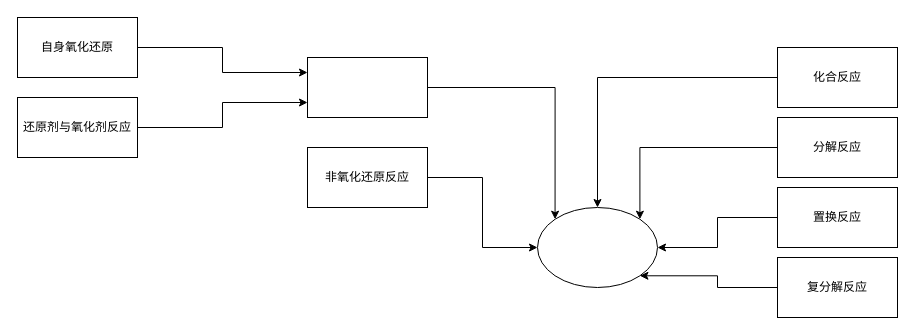
Image size: 915x335. Some labels were removed from this diagram. Each missing label, with the box of its shape:
化学反应: (536, 206, 658, 288)
氧化还原反应: (306, 56, 428, 118)
